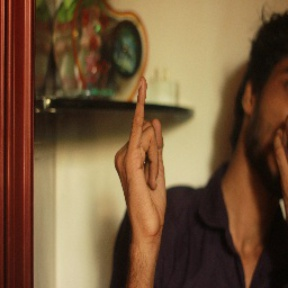I: (111, 83, 177, 239)
